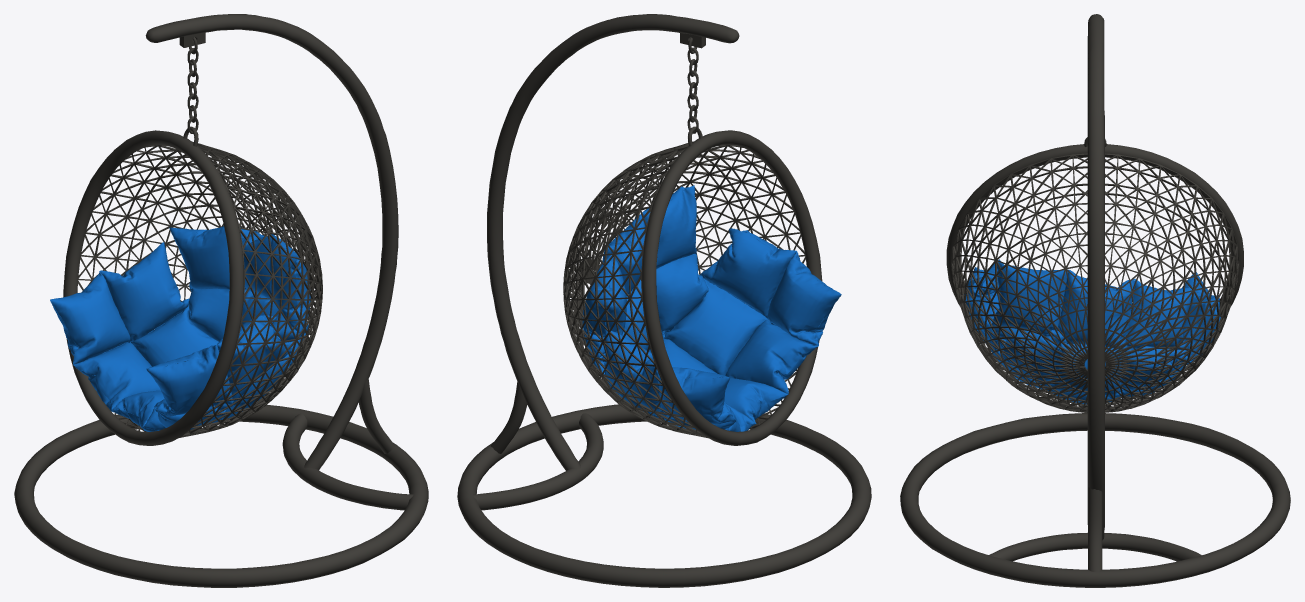
The model's file is basket_swing_chair-transformed.glb.
3 renders of one model, left to right at view 1: azimuth 30°, elevation 25°; view 2: azimuth 150°, elevation 25°; view 3: azimuth 270°, elevation 25°, orthographic. The views are drawn at different scales.
Visible parts, largest first — view 1: part1_chair1_0; view 2: part1_chair1_0; view 3: part1_chair1_0.
Part boxes in pixels (bbox=[...]): part1_chair1_0: bbox=[14, 14, 428, 587]; part1_chair1_0: bbox=[457, 14, 871, 587]; part1_chair1_0: bbox=[900, 14, 1290, 587].
Bounding box in the file's own units: 2.09 × 2.74 × 2.09.
1 material, 1 textured.
